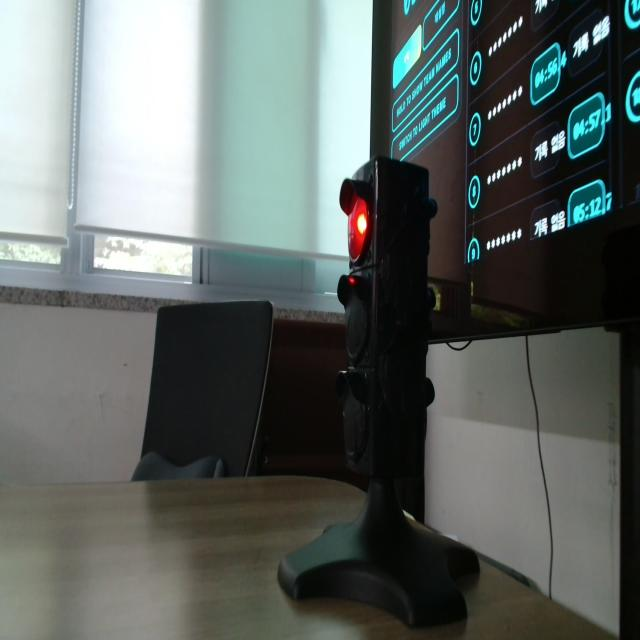red_light: (348, 197, 368, 261), (357, 214, 366, 234), (348, 276, 356, 286)
